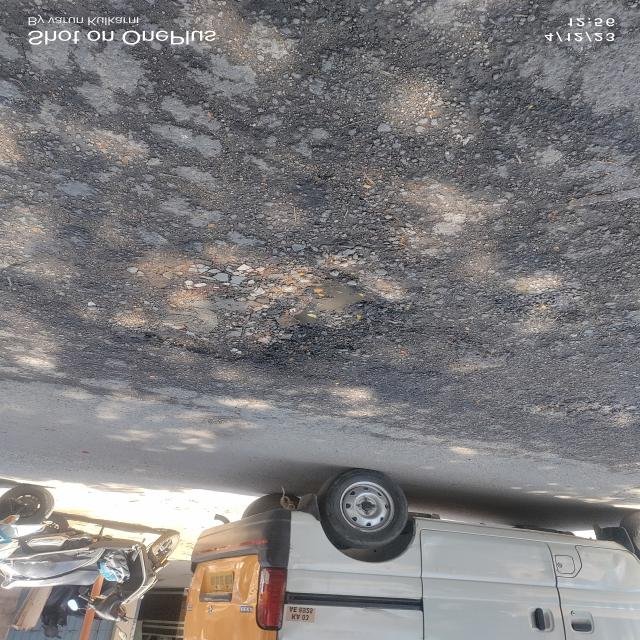Puddle pothole: (286, 268, 378, 328)
